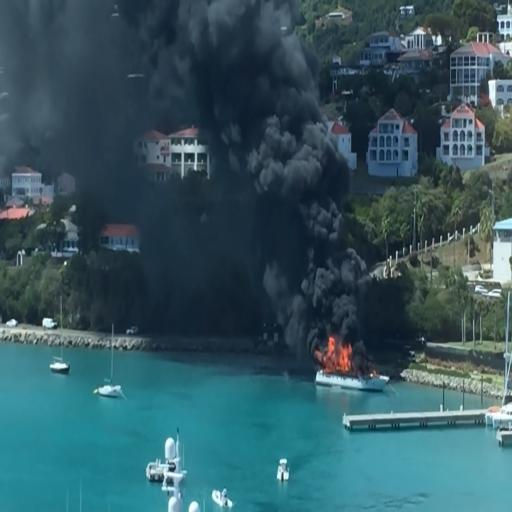fire: (322, 333, 359, 376)
smoke: (261, 148, 353, 333)
